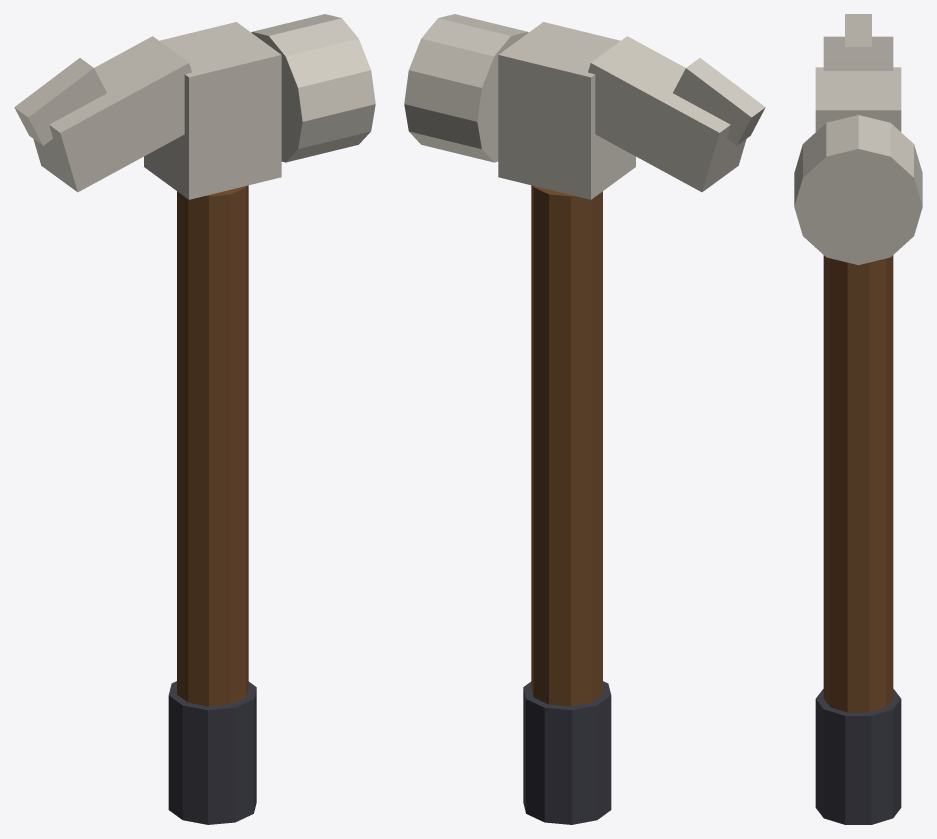
File: hammer.glb
The picture shows the model from 3 angles, left to right: view 1: azimuth 30°, elevation 25°; view 2: azimuth 150°, elevation 25°; view 3: azimuth 270°, elevation 25°; orthographic projection. The views are drawn at different scales.
Parts seen in each view (by area): view 1: hammer; view 2: hammer; view 3: hammer.
Boxes of the visible parts, x1,y1,x2,y2 form: hammer: (14,14,375,824); hammer: (404,14,765,824); hammer: (794,14,922,824).
Size of the model in its own units: 0.1316 by 0.3034 by 0.048.
